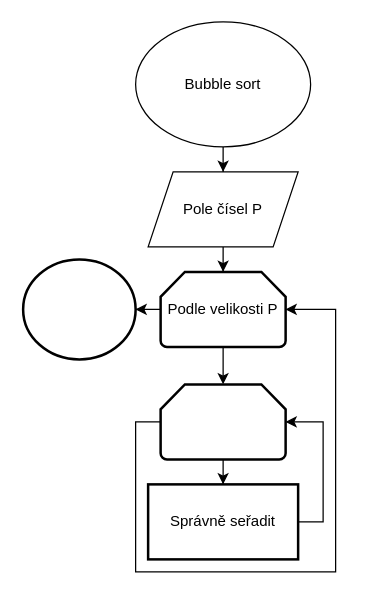
Image size: 368x604. Some labels were removed from this diagram. The centre of each missing label's shape, as x and y in pixels:
Konec v poli P jsou seřazená čísla: (78,309)
Pro každou sousední dvojici od začátku do konce: (222,421)
